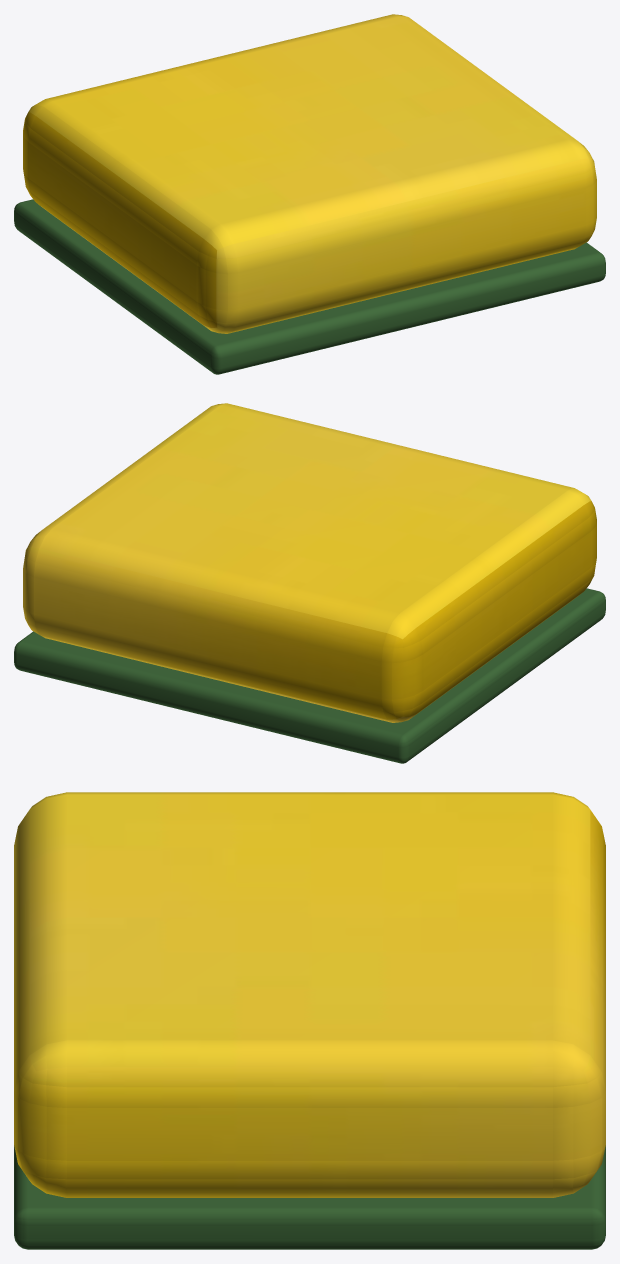
The model's file is counter_items__sponge.glb.
3 views of the same model, one above another, from view 1: azimuth 30°, elevation 25°; view 2: azimuth 150°, elevation 25°; view 3: azimuth 270°, elevation 25° (orthographic). The views are drawn at different scales.
Visible parts, largest first — view 1: body; view 2: body; view 3: body.
Part boxes in pixels (x1,y1,x2,y2): body: (14, 14, 605, 374); body: (14, 403, 605, 763); body: (14, 792, 605, 1249).
Size of the model in its own units: 0.0803 by 0.0264 by 0.0722.
2 materials, 1 textured.
